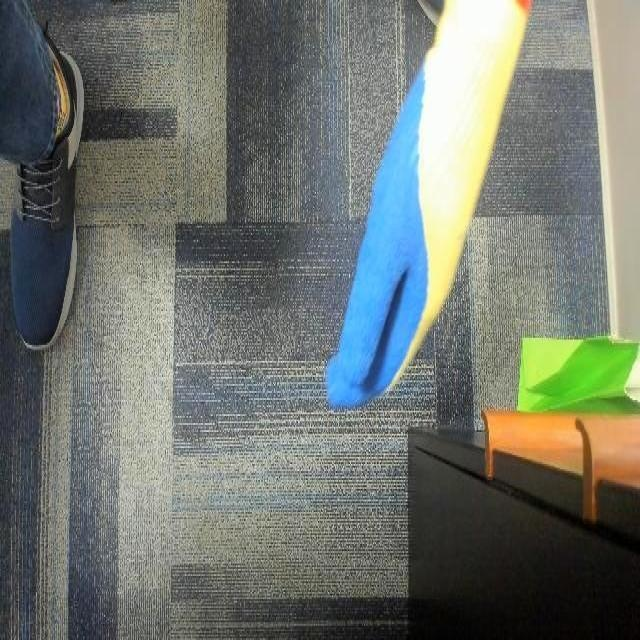Guantes: (308, 0, 488, 390)
